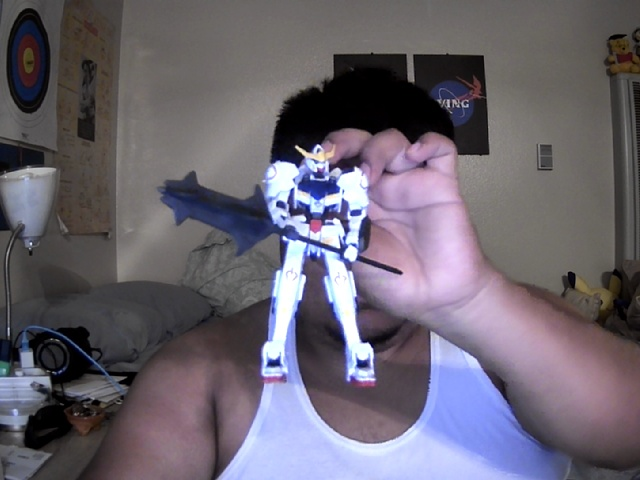Barbatos: (157, 143, 405, 390)
